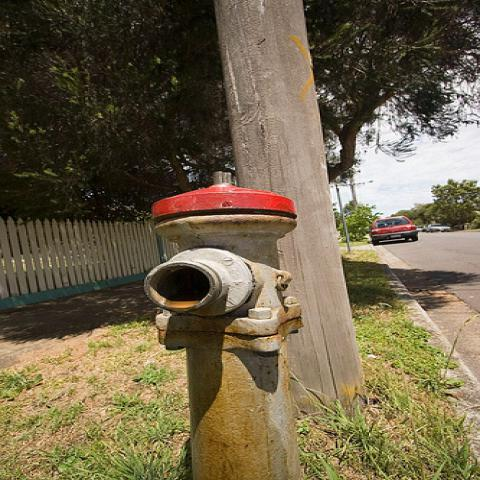car: (370, 216, 421, 246), (428, 223, 451, 232)
